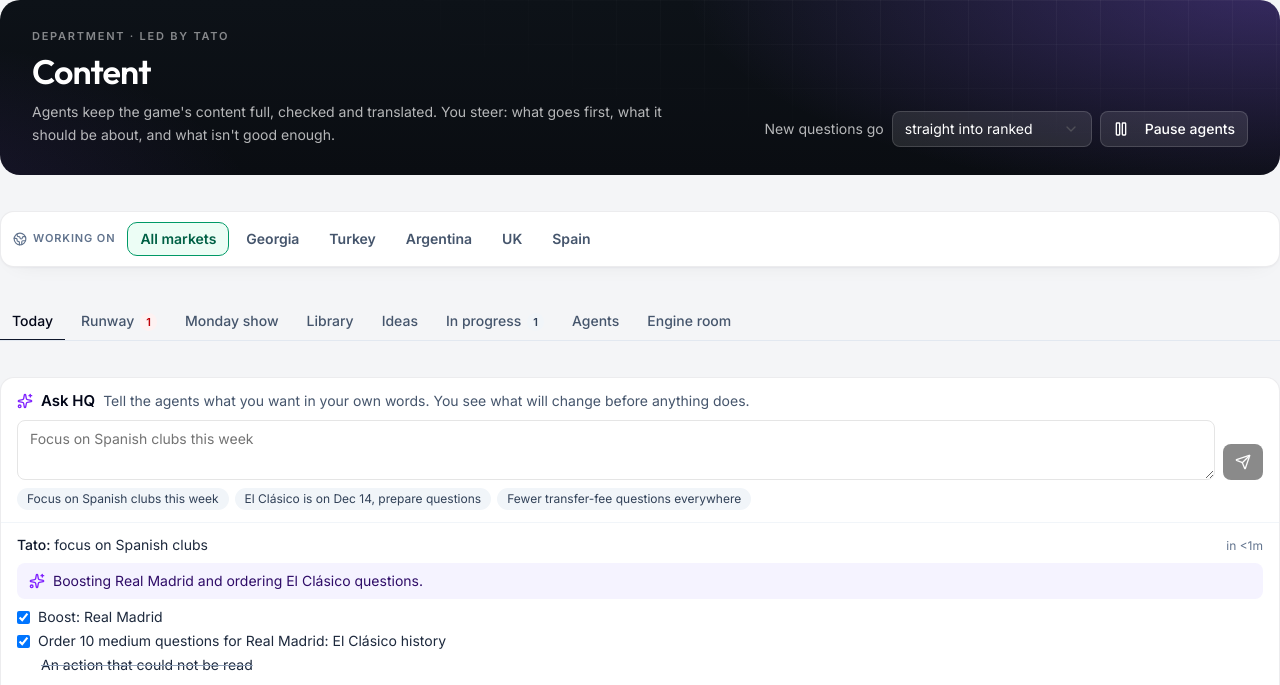
Test: lists boosted categories first, by name, with how long until full
This screenshot has width=1280, height=685.
Step 1. Click the tab "Library" → (330, 322), box [294, 302, 366, 340]
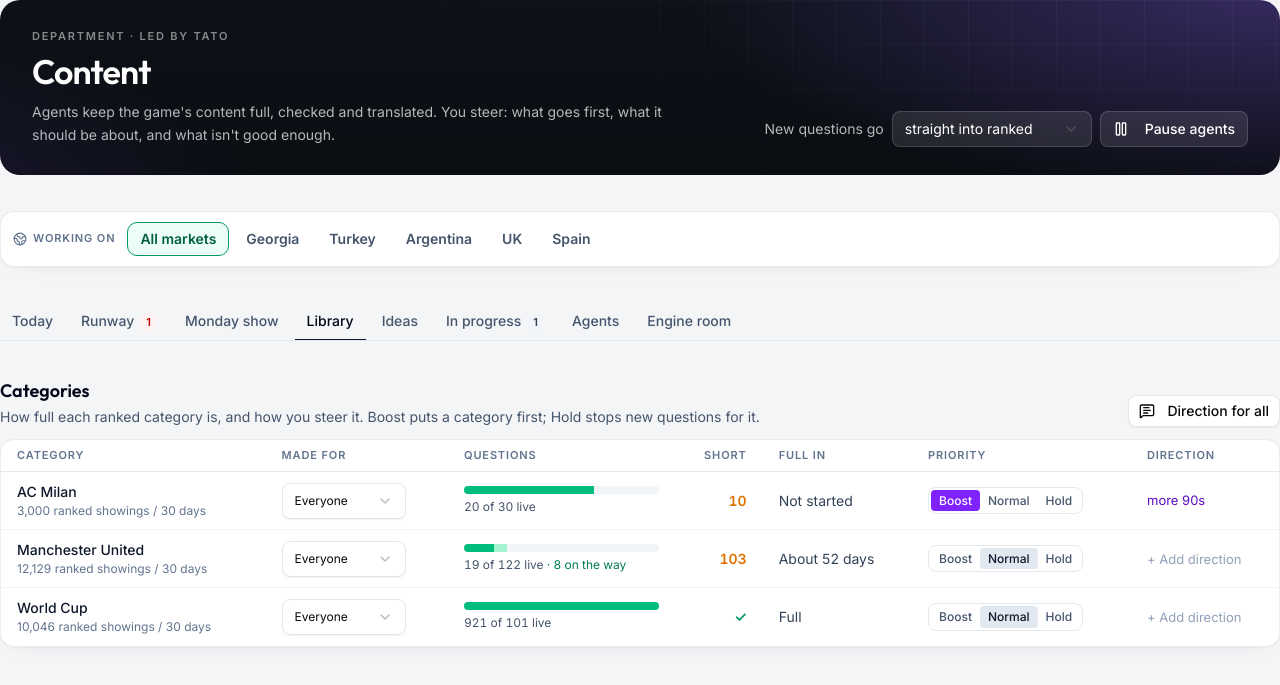
Check: the cell "AC Milan 3,000 ranked showings / 30 days" is shown, box [1, 472, 266, 530]
Check: the cell "Manchester United 12,129 ranked showings / 30 days" is shown, box [1, 530, 266, 588]
Check: the text "About 52 days" is shown, box [763, 530, 912, 588]
